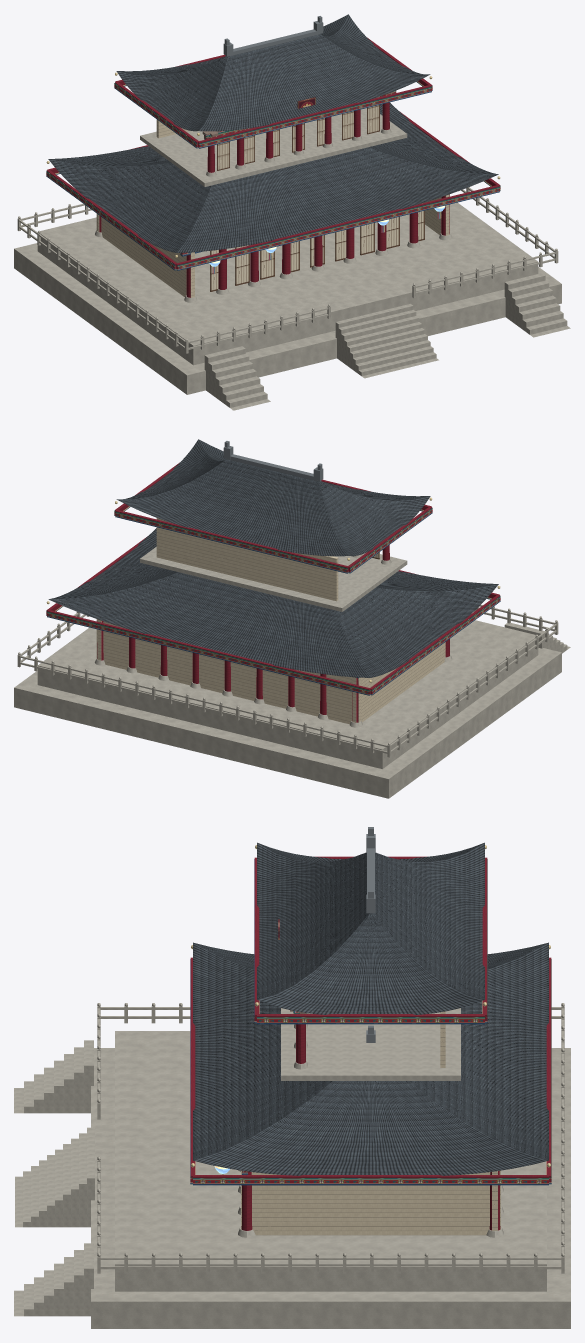
The model's file is palace-placeholder.glb.
The picture shows the model from 3 angles, top to bottom: view 1: azimuth 30°, elevation 25°; view 2: azimuth 150°, elevation 25°; view 3: azimuth 270°, elevation 25°; orthographic projection. The views are drawn at different scales.
Parts seen in each view (by area): view 1: palace_placeholder; view 2: palace_placeholder; view 3: palace_placeholder.
Part boxes in pixels (x1,y1,x2,y2): palace_placeholder: (14,14,570,410); palace_placeholder: (14,439,570,798); palace_placeholder: (14,827,570,1328).
Bounding box in the file's own units: 30 × 18.9 × 27.85.
14 materials, 7 textured.
